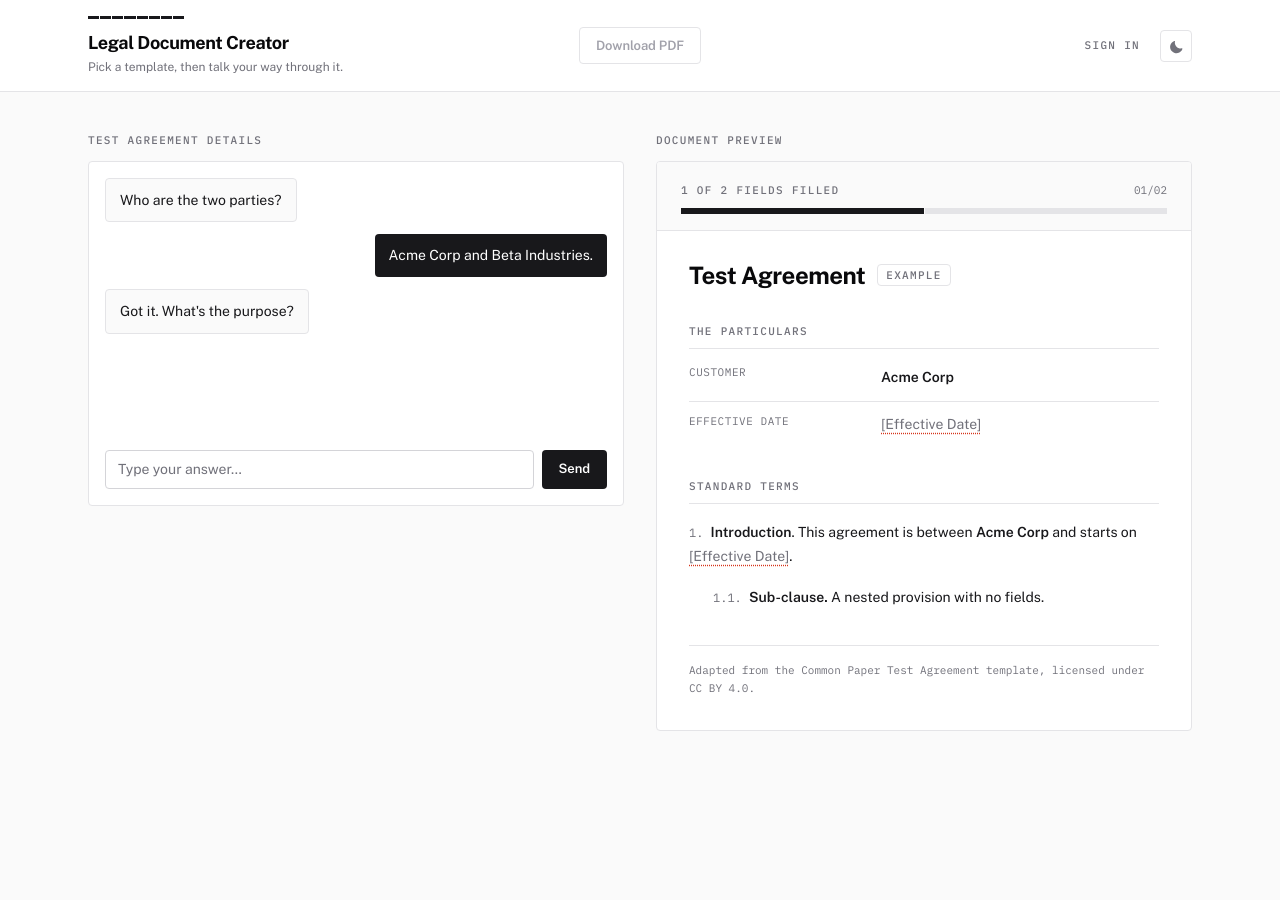
Home (signed-out demo) › asks the visitor to sign in when they type into the chat
Check: the text "Example" is shown, box [877,264,951,286]
In the field named "Message": (319, 469) [105,450,534,488], type "a"
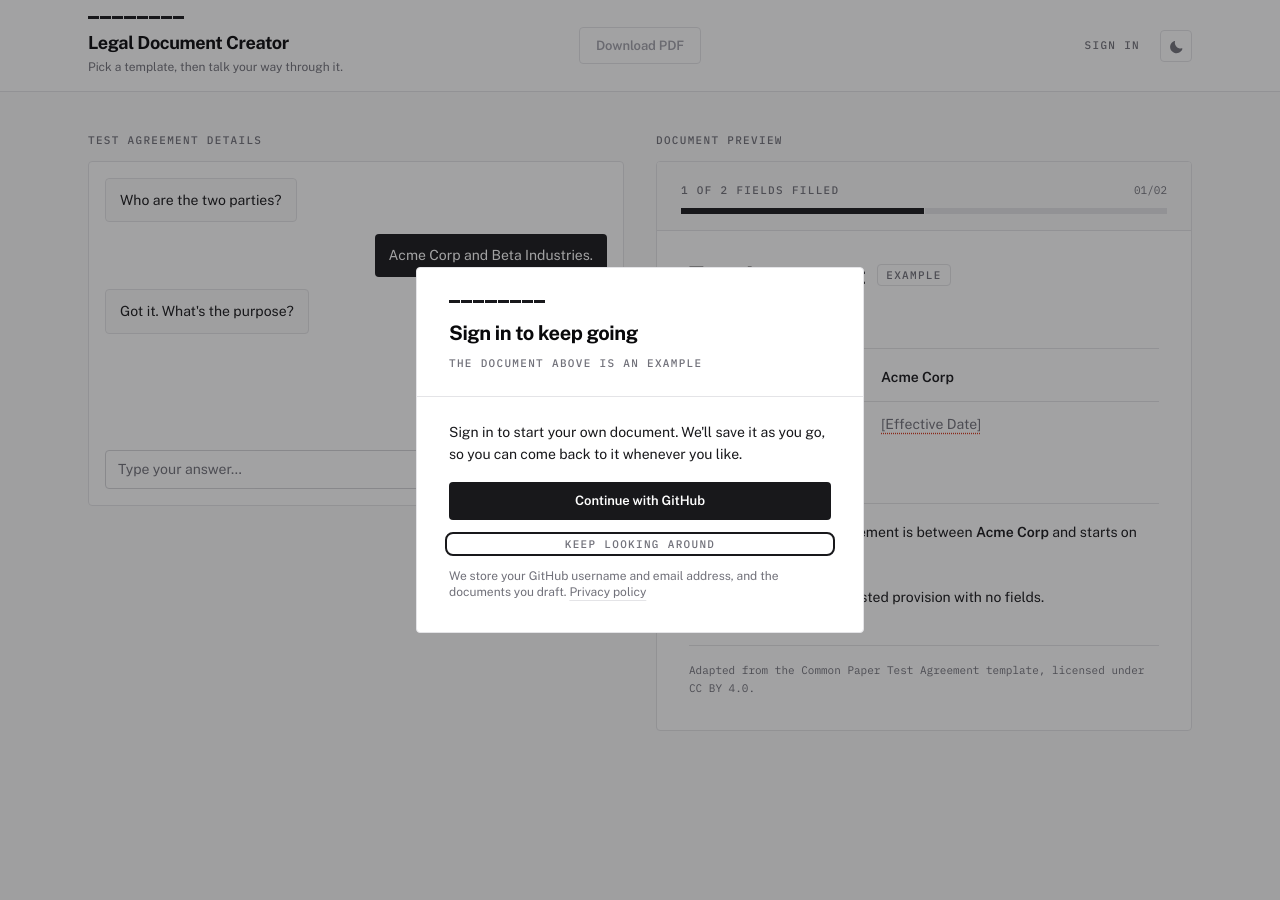
Check: the dialog is shown, box [416,267,864,633]
